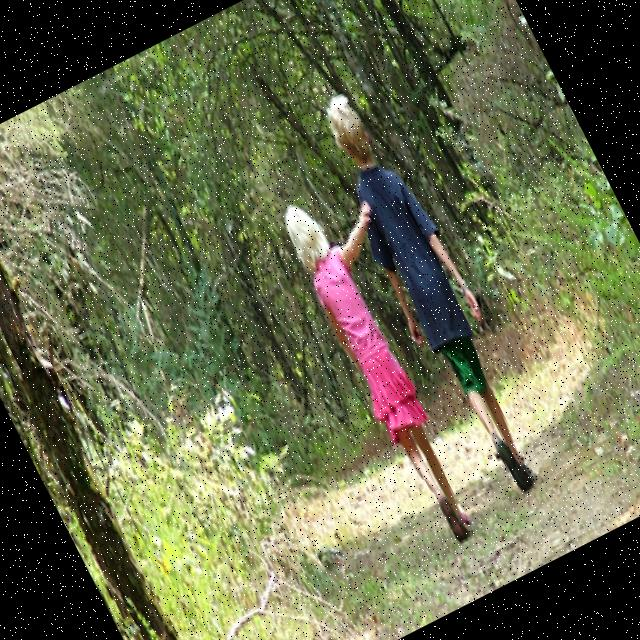Person: (296, 78, 568, 510), (274, 173, 524, 550)
